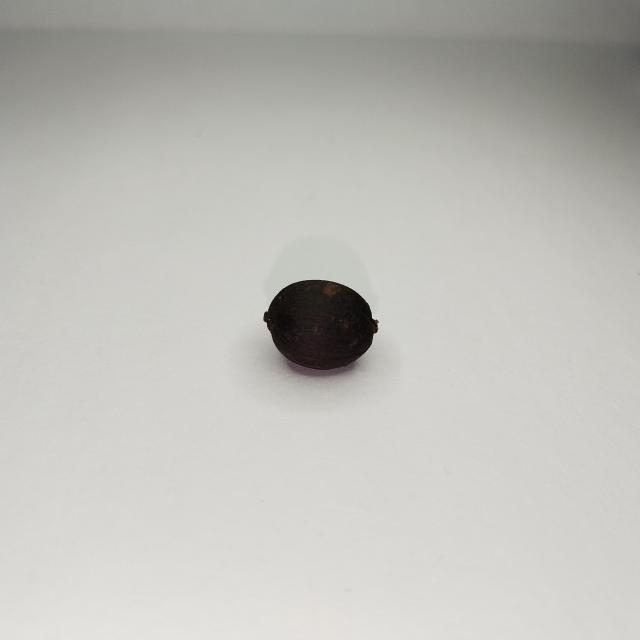Danado: (262, 280, 380, 375)
